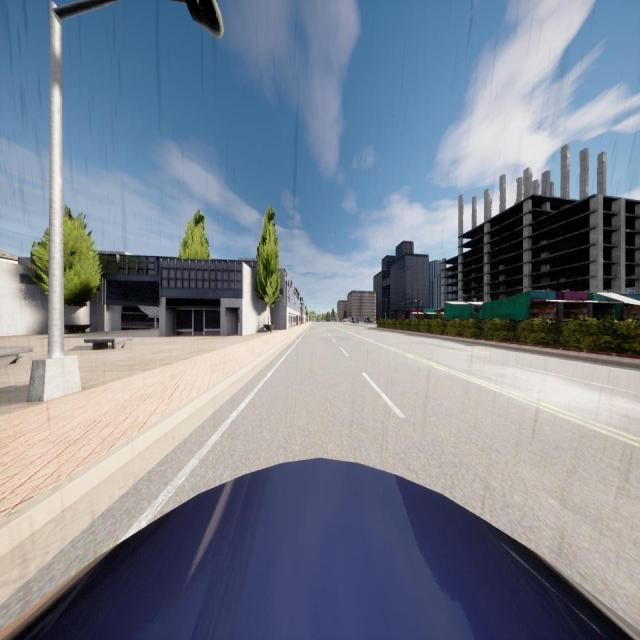Vehicle: (0, 456, 640, 640), (363, 317, 372, 323), (352, 318, 359, 324), (326, 319, 331, 321)
